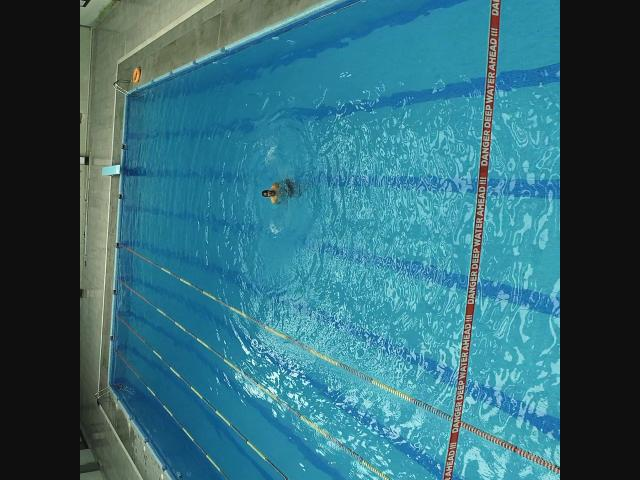swimming: (262, 176, 302, 204)
